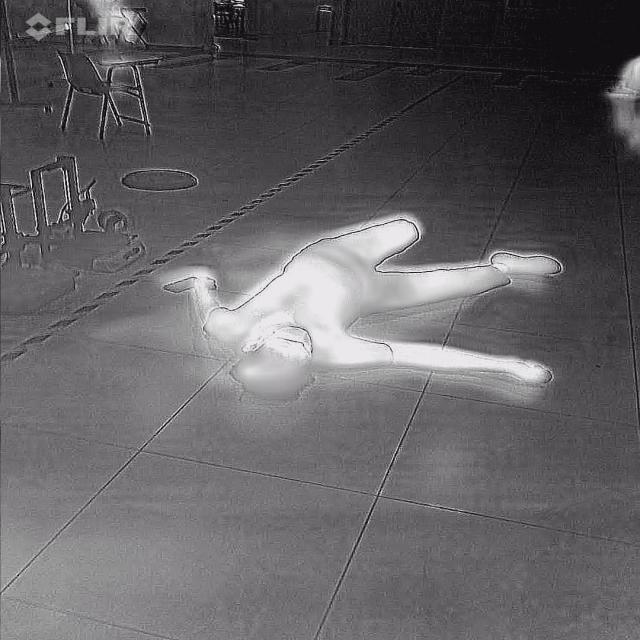Victim: (182, 209, 569, 403)
